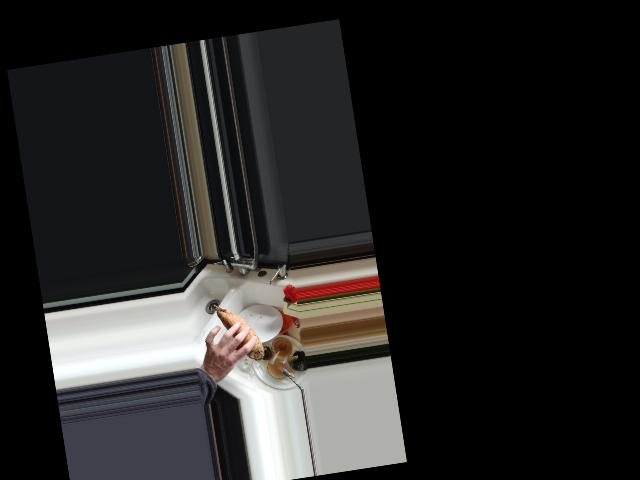sweet_potato: (212, 297, 265, 365)
